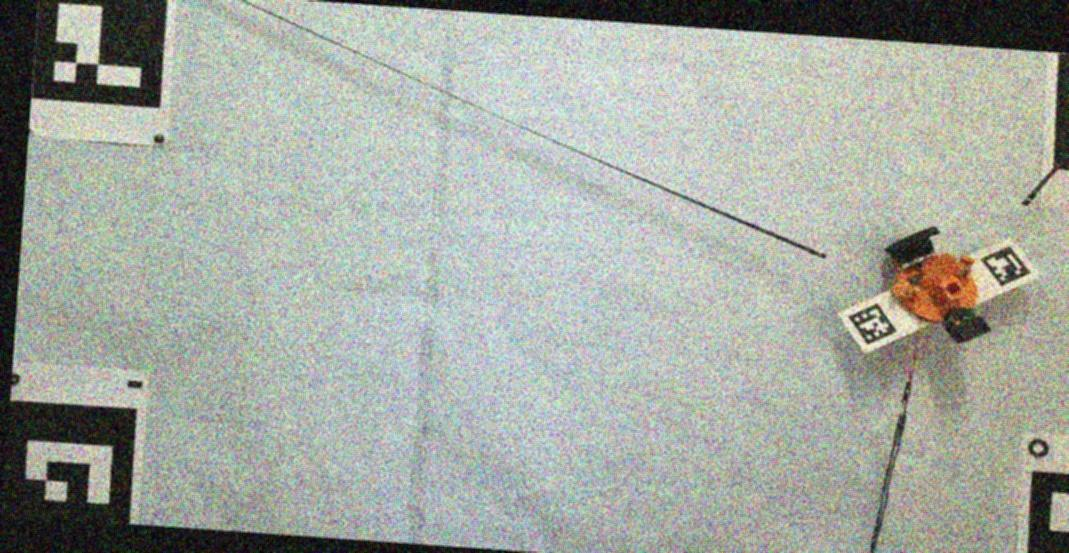obstacle: (884, 226, 990, 343)
